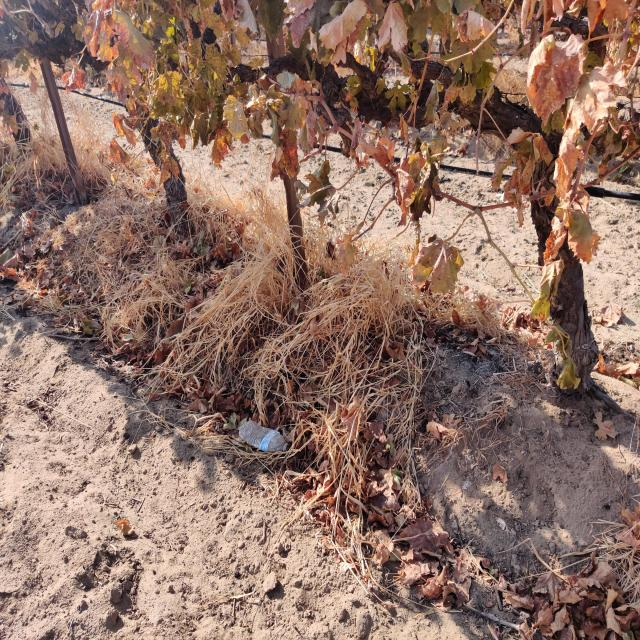litter: (238, 421, 289, 452)
